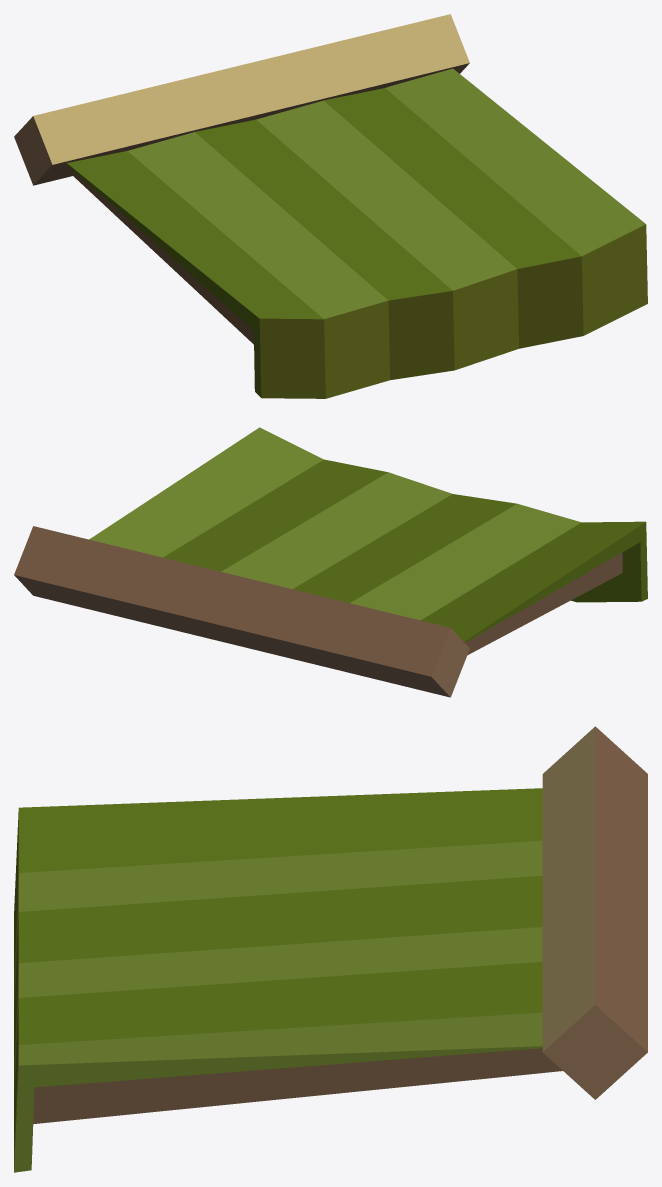
File: TB_D_Bd_Canopy_Str_B.FBX
3 views of the same model, one above another, from view 1: azimuth 30°, elevation 25°; view 2: azimuth 150°, elevation 25°; view 3: azimuth 270°, elevation 25° (orthographic). The views are drawn at different scales.
Visible parts, largest first — view 1: TB_D_Bd_Canopy_Str_B; view 2: TB_D_Bd_Canopy_Str_B; view 3: TB_D_Bd_Canopy_Str_B.
Part boxes in pixels (x1,y1,x2,y2): TB_D_Bd_Canopy_Str_B: (14,14,647,398); TB_D_Bd_Canopy_Str_B: (14,427,647,697); TB_D_Bd_Canopy_Str_B: (14,726,647,1172).
Size of the model in its own units: 1.88 by 0.6442 by 1.81.
